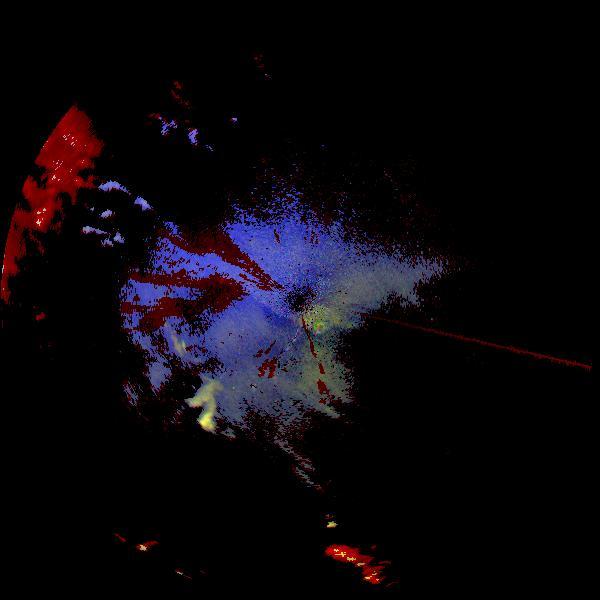roost: (136, 326, 202, 392)
